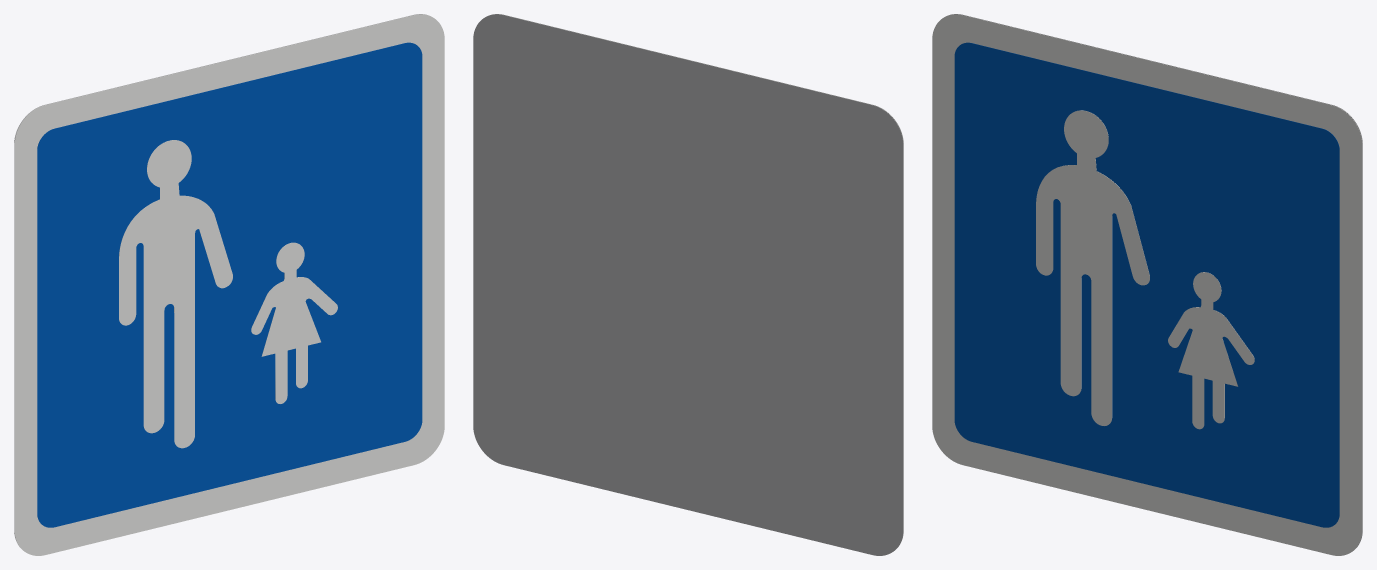
3 views of the same model, side by side, from view 1: azimuth 30°, elevation 25°; view 2: azimuth 150°, elevation 25°; view 3: azimuth 330°, elevation 25° (orthographic).
Parts seen in each view (by area): view 1: B54_p01, B54_p00, B54_p02, B54_p03, B54_dos; view 2: B54_dos, B54_p00; view 3: B54_p01, B54_p00, B54_p02, B54_p03, B54_dos.
Part boxes in pixels (bbox=[...]): B54_p01: bbox=[37, 42, 422, 527]; B54_p00: bbox=[14, 14, 444, 555]; B54_p02: bbox=[119, 140, 232, 448]; B54_p03: bbox=[251, 242, 337, 403]; B54_dos: bbox=[14, 14, 426, 546]; B54_dos: bbox=[473, 14, 903, 555]; B54_p00: bbox=[491, 14, 903, 546]; B54_p01: bbox=[954, 42, 1339, 527]; B54_p00: bbox=[932, 14, 1362, 555]; B54_p02: bbox=[1036, 110, 1149, 425]; B54_p03: bbox=[1168, 272, 1254, 429]; B54_dos: bbox=[950, 14, 1362, 546].
Size of the model in its own units: 0.85 by 0.8498 by 0.0031.
